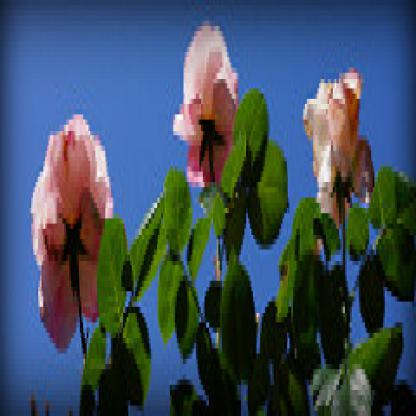Rose-Mawar: (23, 79, 112, 355), (298, 27, 377, 245), (169, 17, 249, 209)
